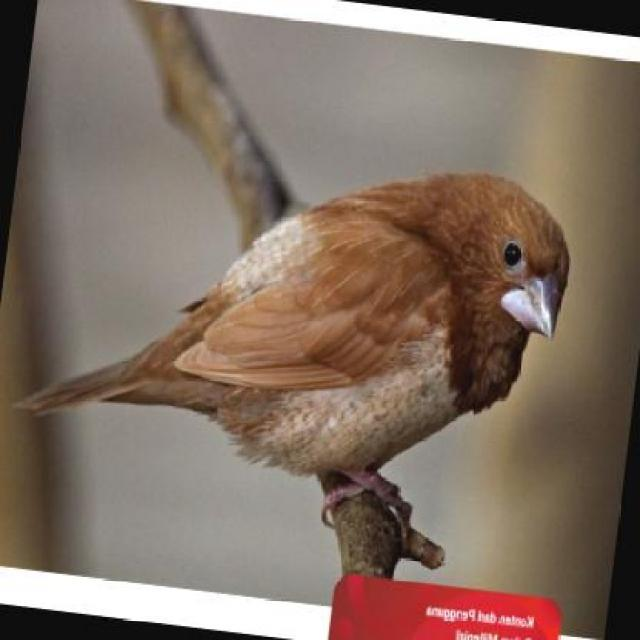Bird: (25, 170, 603, 555)
